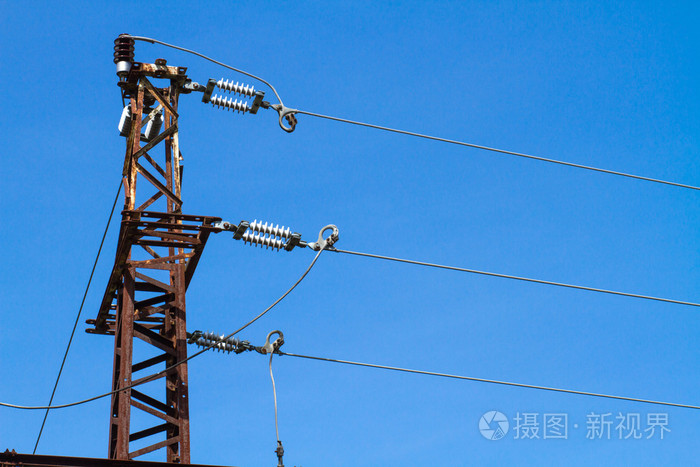insulator: (249, 218, 291, 239), (242, 231, 288, 249), (200, 328, 244, 346), (212, 93, 249, 114), (113, 35, 139, 62), (215, 79, 255, 96), (196, 340, 239, 355)
